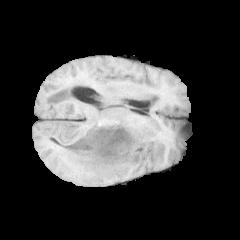glioma: (59, 122, 152, 182)
